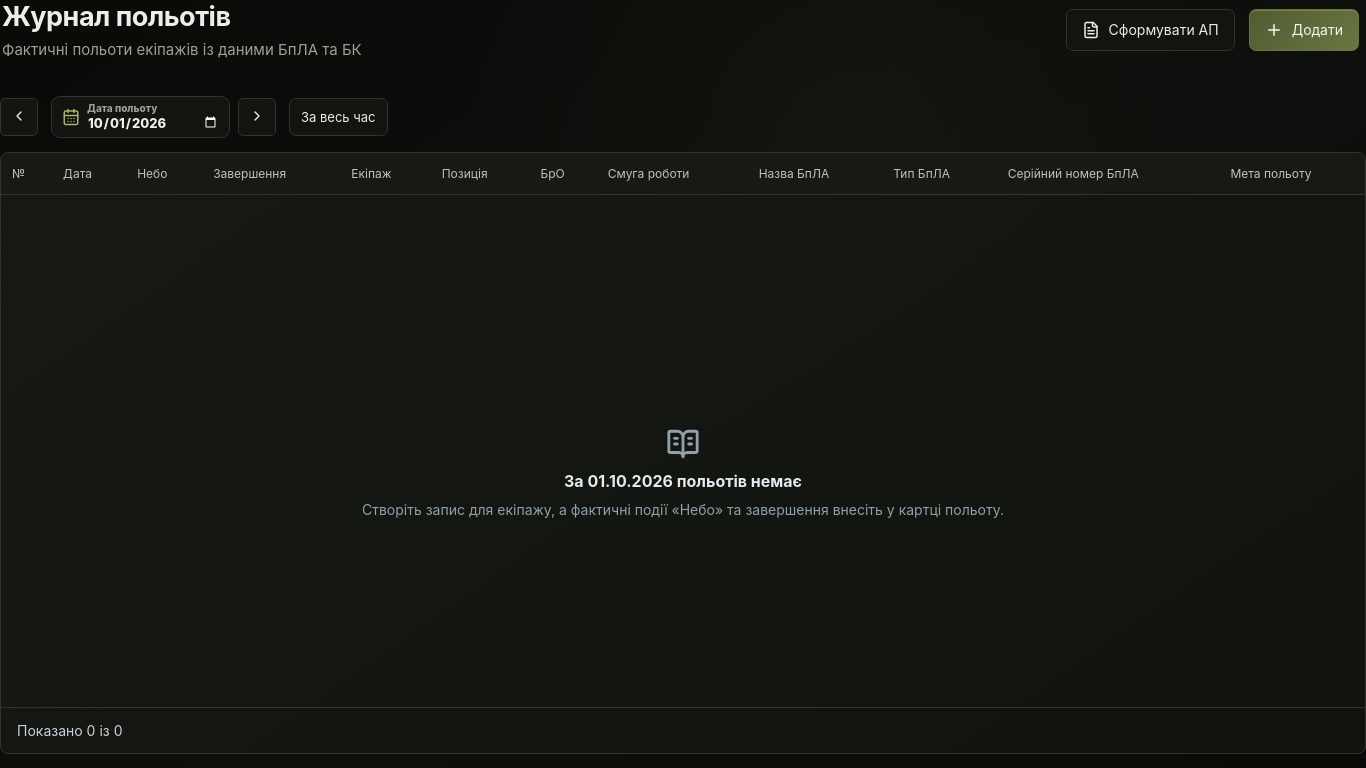
Test case: Журнал польотів › ігнорує невалідний pending і використовує знімок БД
This screenshot has width=1366, height=768.
Click the button "Додати": (1304, 30) [1249,8,1359,50]
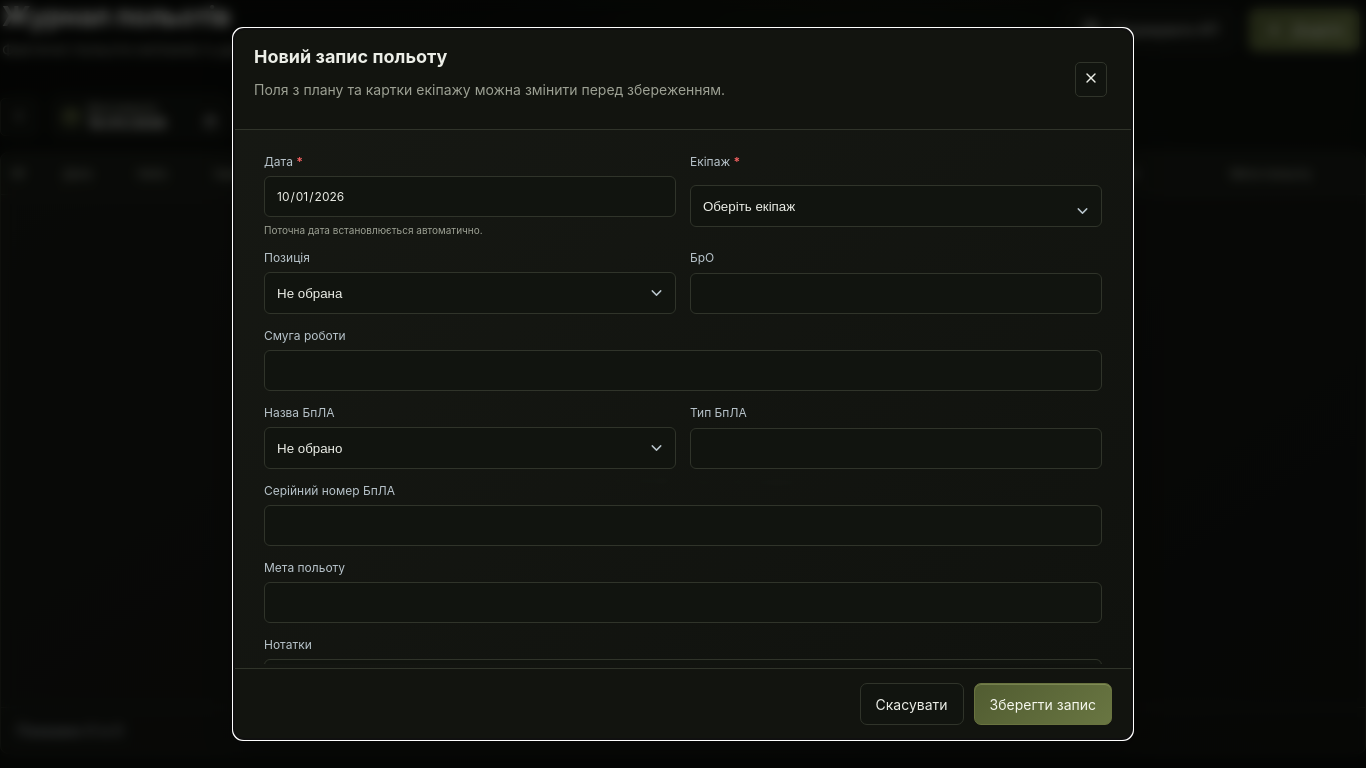
Select "ГРІМ" in the dropdown named "Екіпаж польоту": (896, 206) [690,185,1102,227]
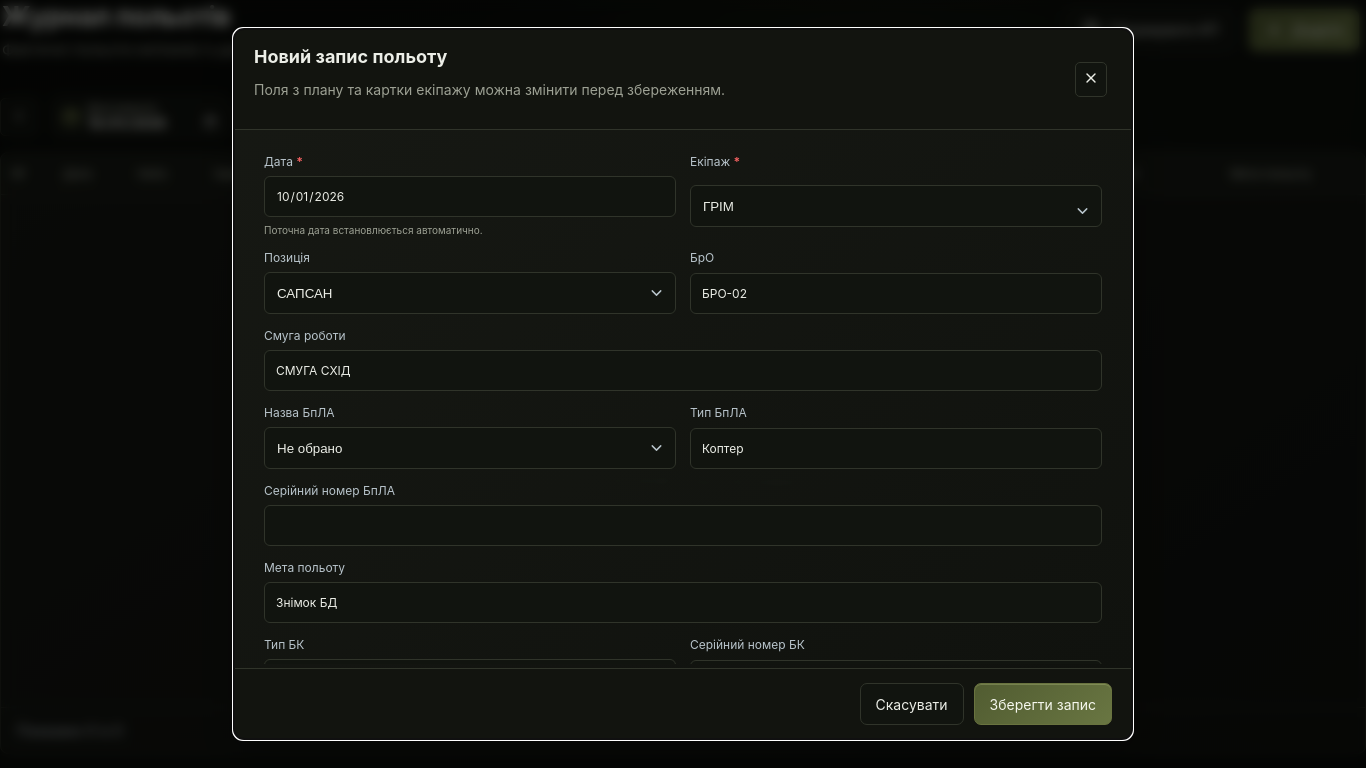
expect the field showing "Знімок БД" is shown: met, box [264,582,1102,623]
